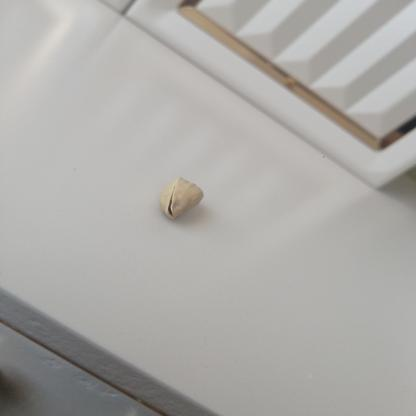pistachio: (153, 177, 212, 223)
